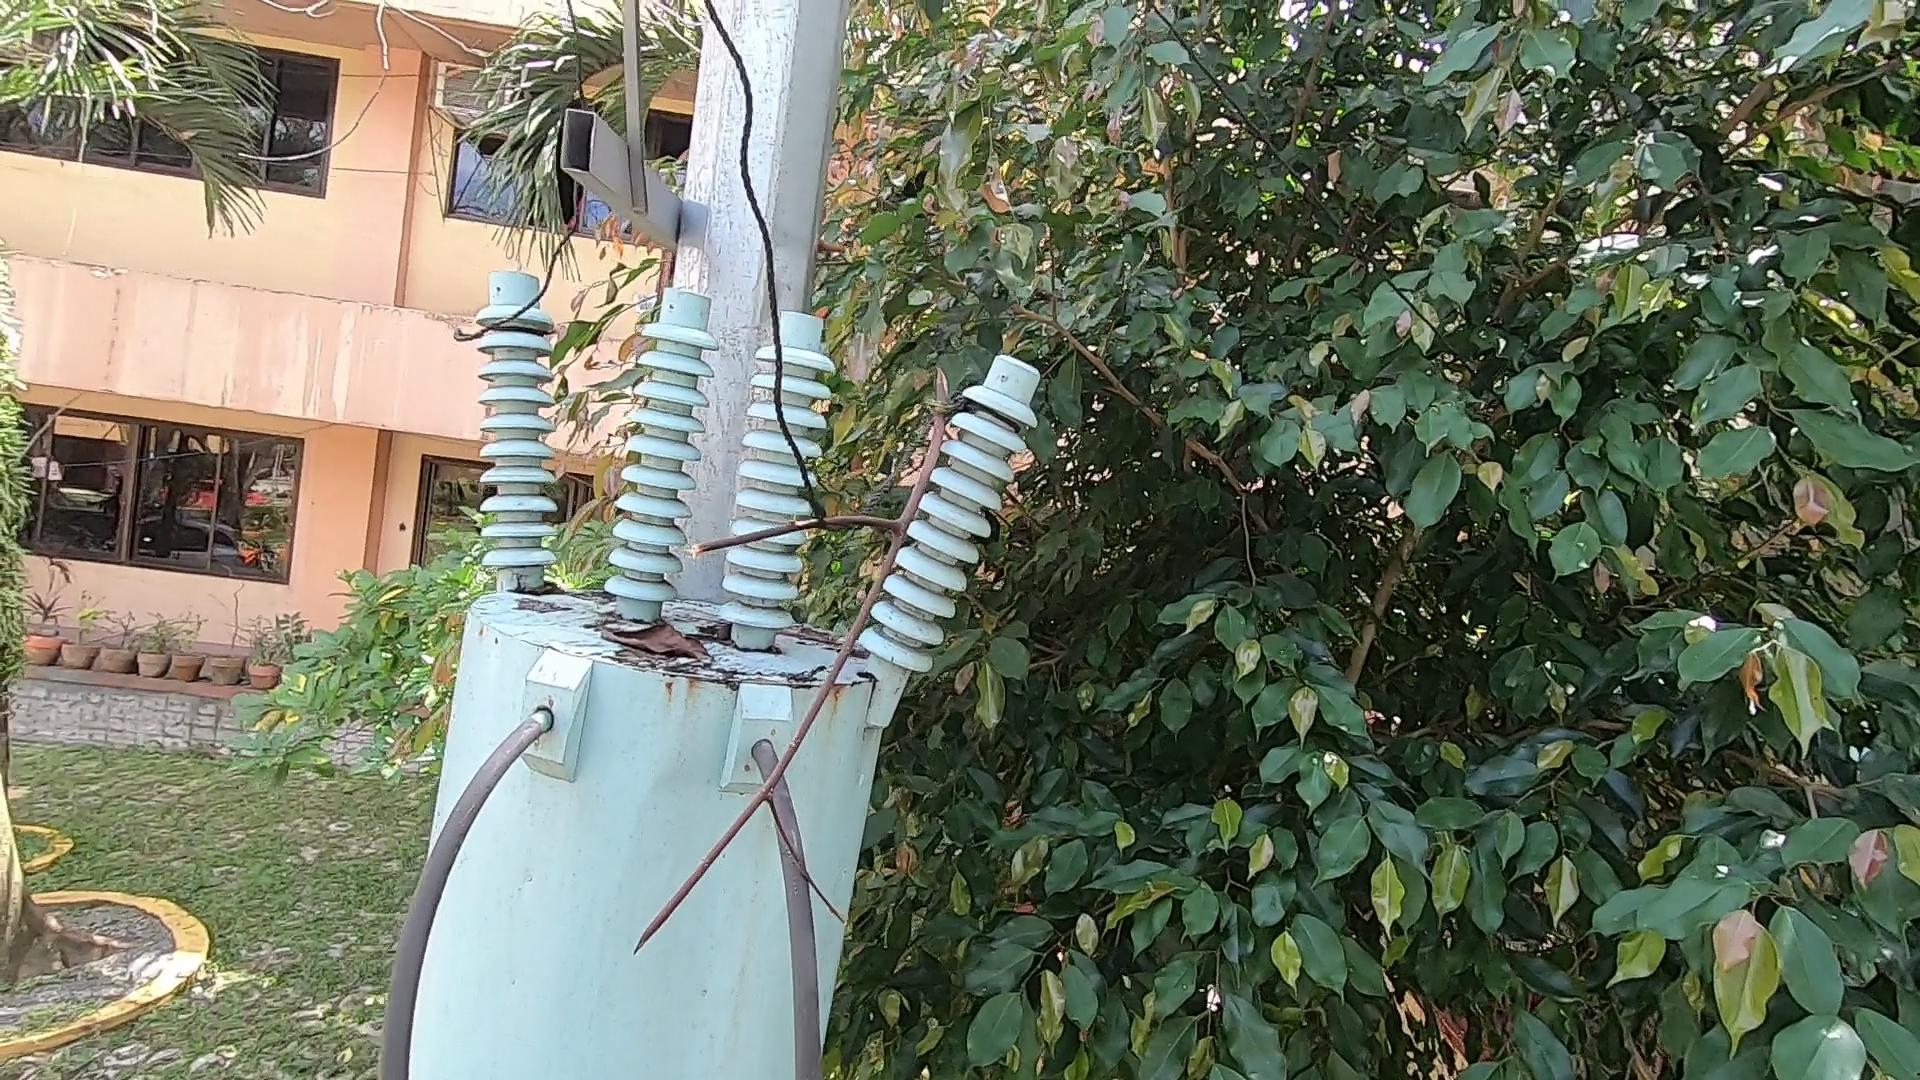leaf: (601, 611, 717, 682)
tree branch: (617, 359, 1042, 978)
